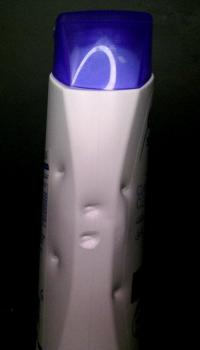dent_unacceptable: (44, 244, 73, 278), (106, 277, 135, 308), (75, 227, 107, 252), (77, 197, 110, 219), (50, 162, 73, 189), (115, 179, 137, 202)
